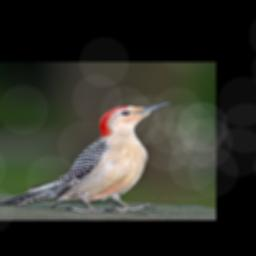Woodpecker: (0, 100, 174, 213)
